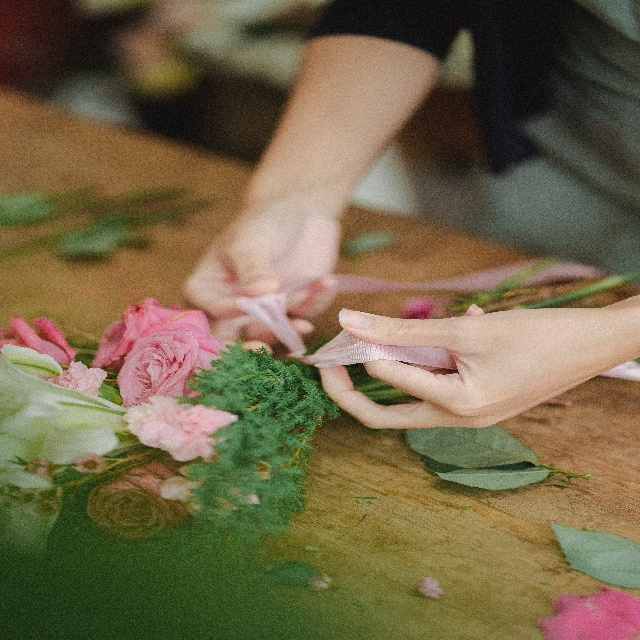Sin_guantes: (318, 300, 622, 433), (189, 207, 336, 324)
